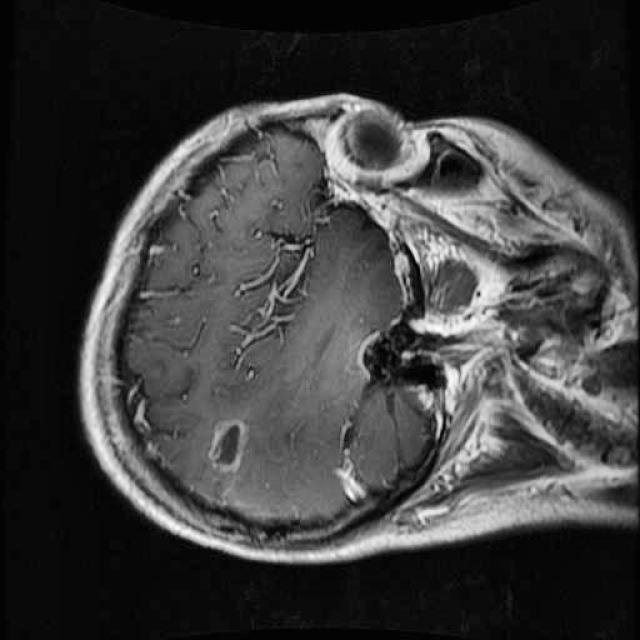Tumor: (192, 400, 268, 484)
